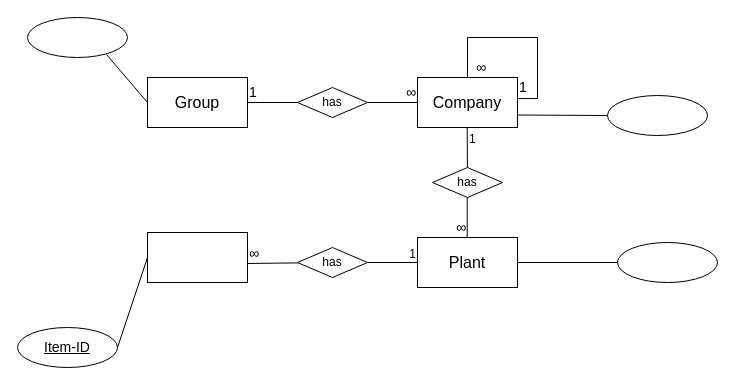
The diagram is 735 pixels wide and 385 high, and some of its shapes have lost their labels. The centre of each missing label's shape, as x and y in pixels:
"Comp-ID" belongs at [657,115].
"Group-ID" belongs at [77,37].
"Item" belongs at [197,257].
"Plant-ID" belongs at [667,262].
